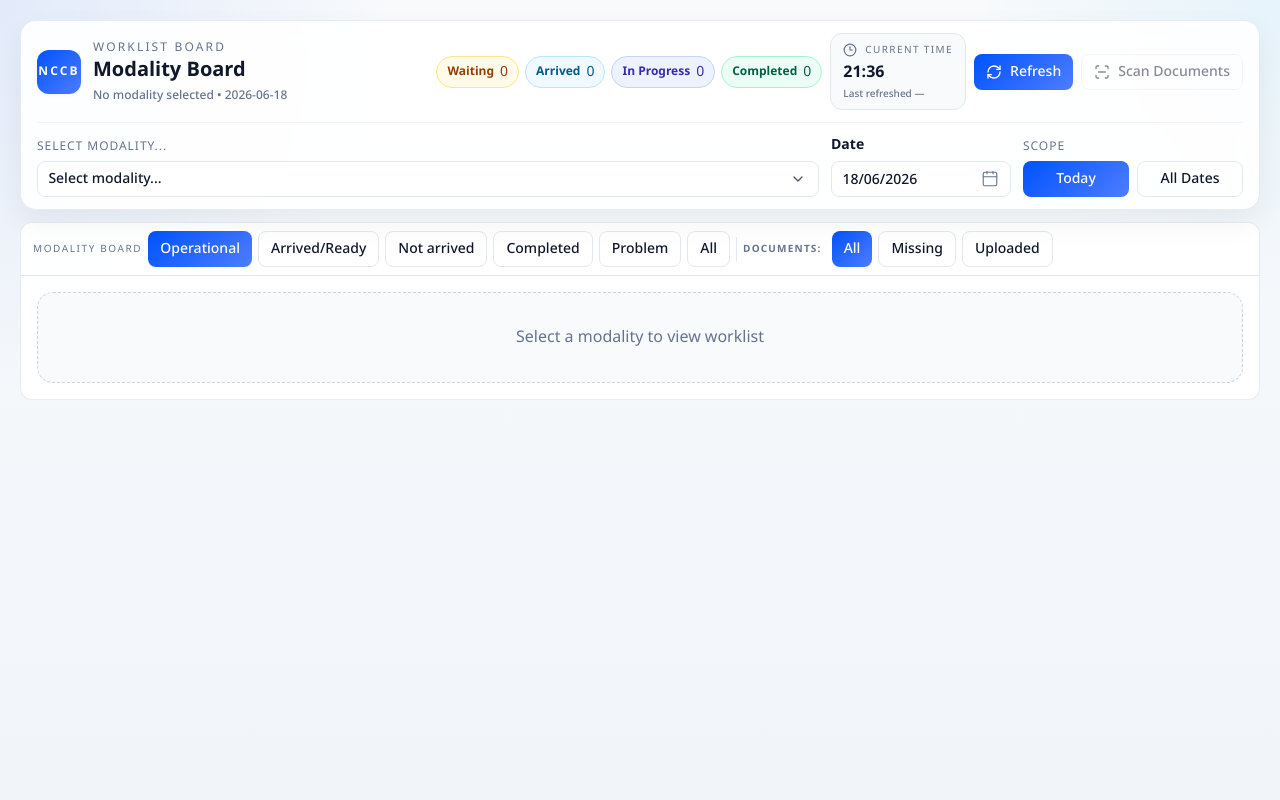
Scenario: ModalityPage modality board › opens CT document ingestion with the selected modality ID
Select "CT" in the dropdown: (428, 179) [37, 161, 819, 197]
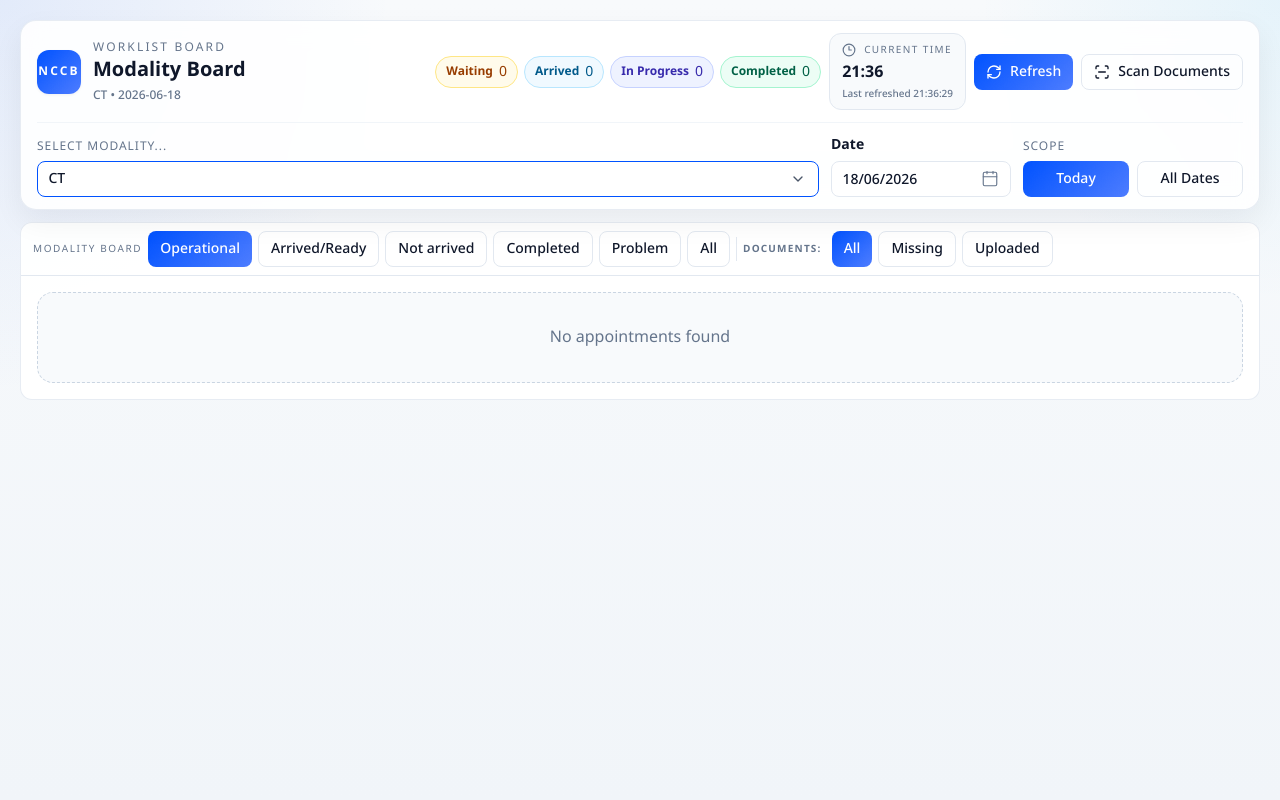
expect the button "Scan Documents" is enabled: met
Click the button "Scan Documents": click(1162, 72) [1081, 54, 1243, 90]
(page scrolled)
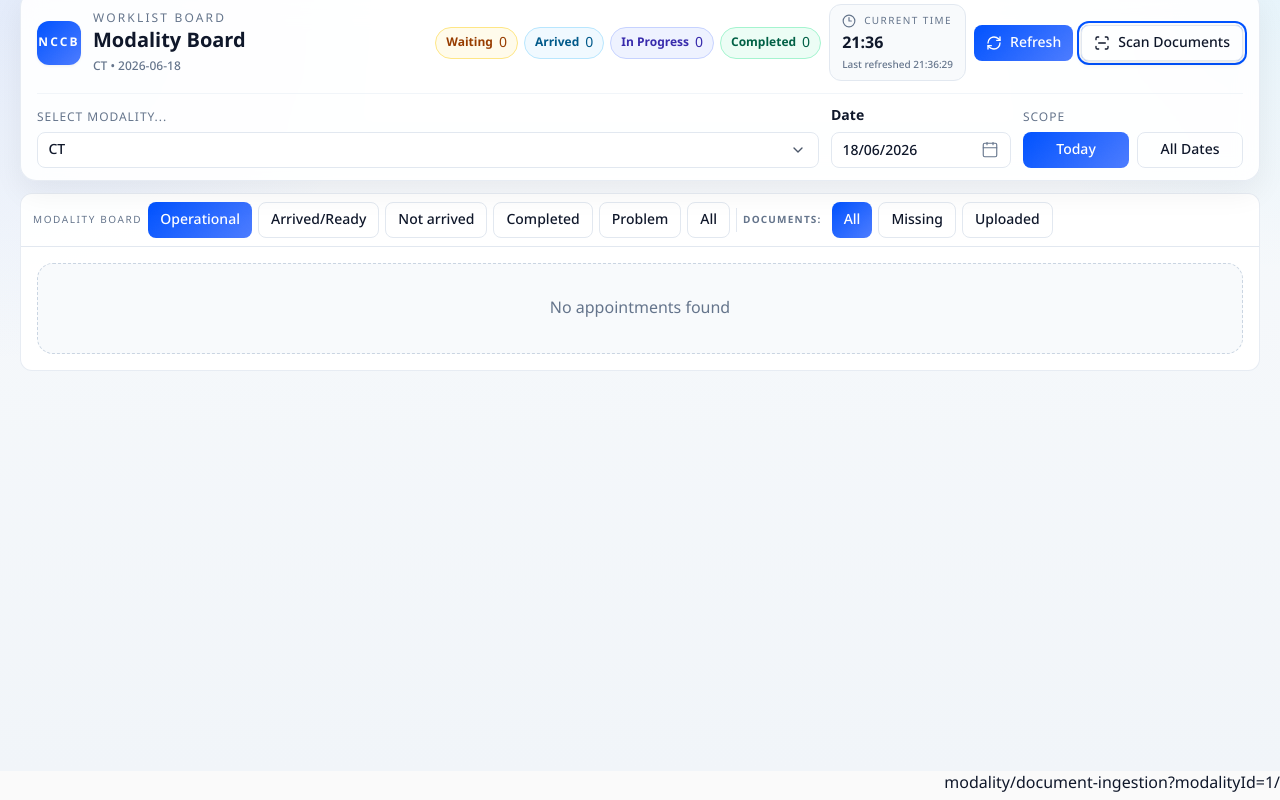
expect the text with test id "location" reads "/modality/document-ingestion?modalityId=1": met, box [944, 766, 1279, 799]
